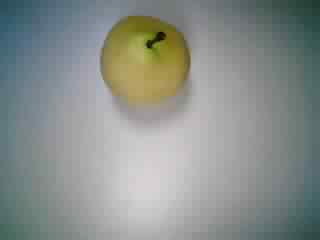pear: (90, 5, 201, 115)
